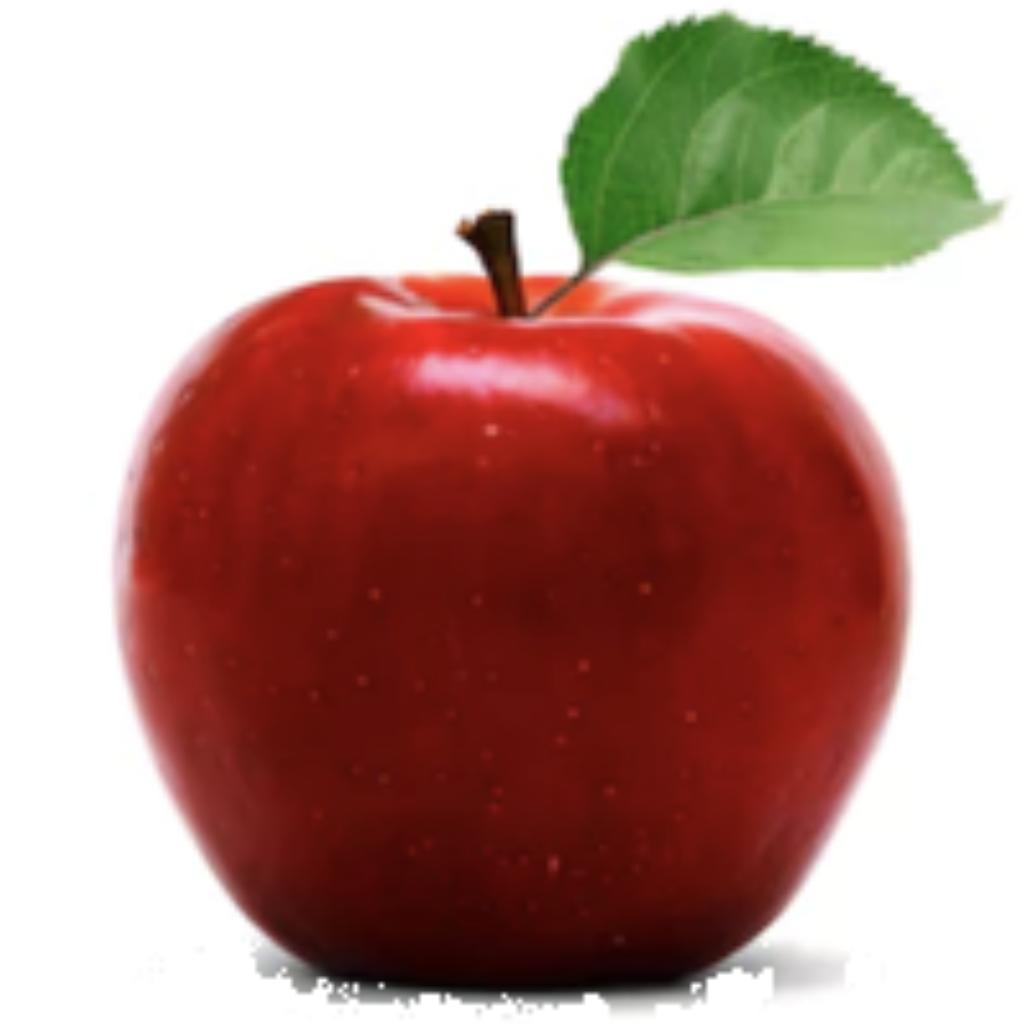apple: (102, 0, 1009, 1019)
